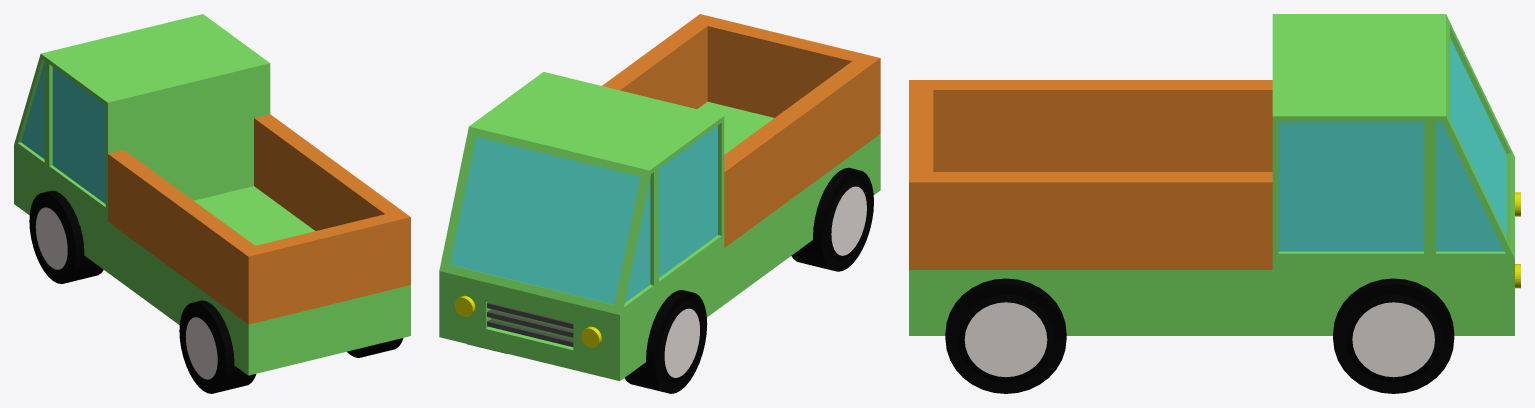
File: truck_blender.fbx
3 renders of one model, left to right at view 1: azimuth 30°, elevation 25°; view 2: azimuth 150°, elevation 25°; view 3: azimuth 270°, elevation 25°, orthographic. The views are drawn at different scales.
Visible parts, largest first — view 1: cabin, whell, load_back, load_left, load_right; view 2: cabin, whell, load_left, load_back, load_right; view 3: cabin, whell, load_right, load_left, load_back.
Boxes of the visible parts, x1,y1,x2,y2 form: cabin: (14, 14, 270, 272); whell: (29, 186, 410, 393); load_back: (239, 210, 410, 324); load_left: (108, 150, 254, 317); load_right: (254, 114, 400, 230); cabin: (439, 72, 724, 380); whell: (467, 101, 880, 393); load_left: (724, 61, 870, 247); load_back: (690, 14, 880, 140); load_right: (602, 21, 707, 108); cabin: (1272, 14, 1520, 335); whell: (909, 270, 1454, 393); load_right: (933, 172, 1272, 269); load_left: (933, 80, 1272, 171); load_back: (909, 80, 933, 269).
Size of the model in its own units: 224 by 248 by 505.
